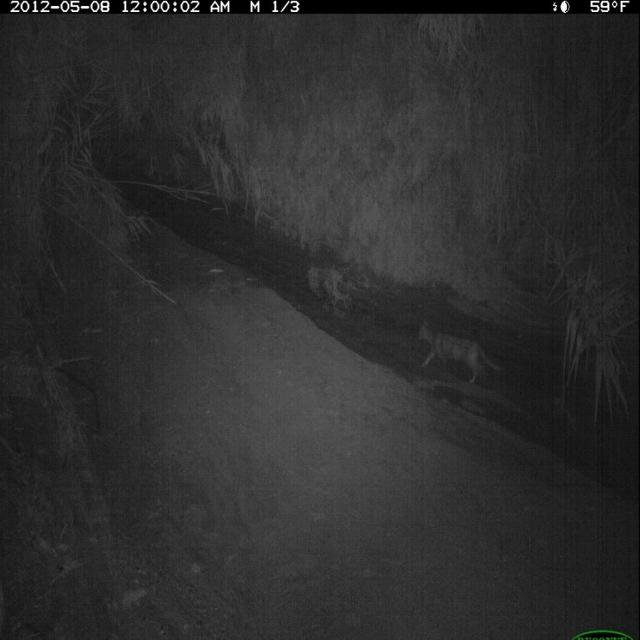cat: (416, 314, 507, 387)
